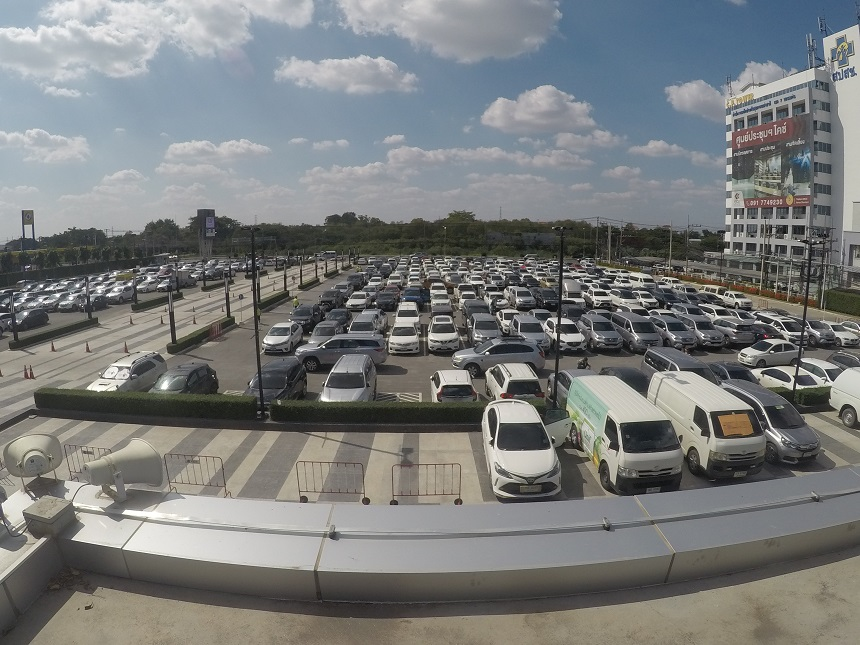busy: (602, 430, 680, 484), (483, 441, 561, 494), (696, 425, 761, 473), (773, 427, 826, 467), (256, 367, 308, 400), (98, 359, 146, 389), (323, 370, 370, 400), (489, 367, 533, 394), (163, 364, 204, 392), (430, 373, 471, 401), (518, 330, 552, 354), (651, 357, 694, 375), (631, 328, 662, 352), (834, 379, 860, 407), (428, 333, 460, 353), (756, 368, 794, 384), (467, 331, 500, 349), (591, 331, 620, 351), (387, 335, 419, 353), (555, 333, 583, 352), (264, 333, 292, 351), (671, 329, 696, 347), (612, 366, 640, 382), (350, 324, 375, 340), (730, 326, 753, 343), (311, 330, 334, 346), (560, 369, 588, 382), (835, 354, 859, 369), (717, 364, 742, 378), (804, 362, 829, 376), (701, 332, 722, 345), (786, 332, 808, 344), (813, 333, 835, 345), (841, 333, 859, 346), (760, 330, 779, 342)
